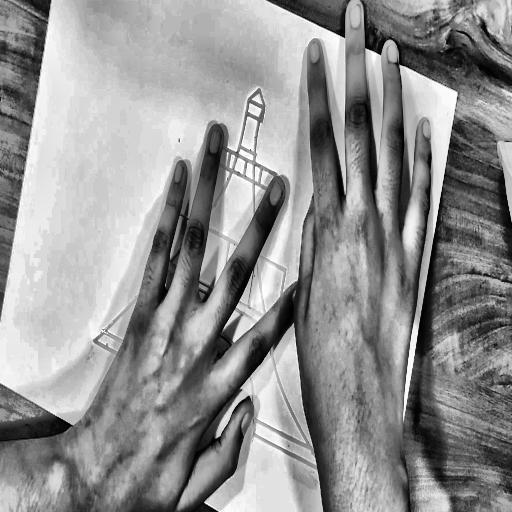eiffel-tower: (73, 23, 402, 484)
top_right: (455, 89, 460, 98)
